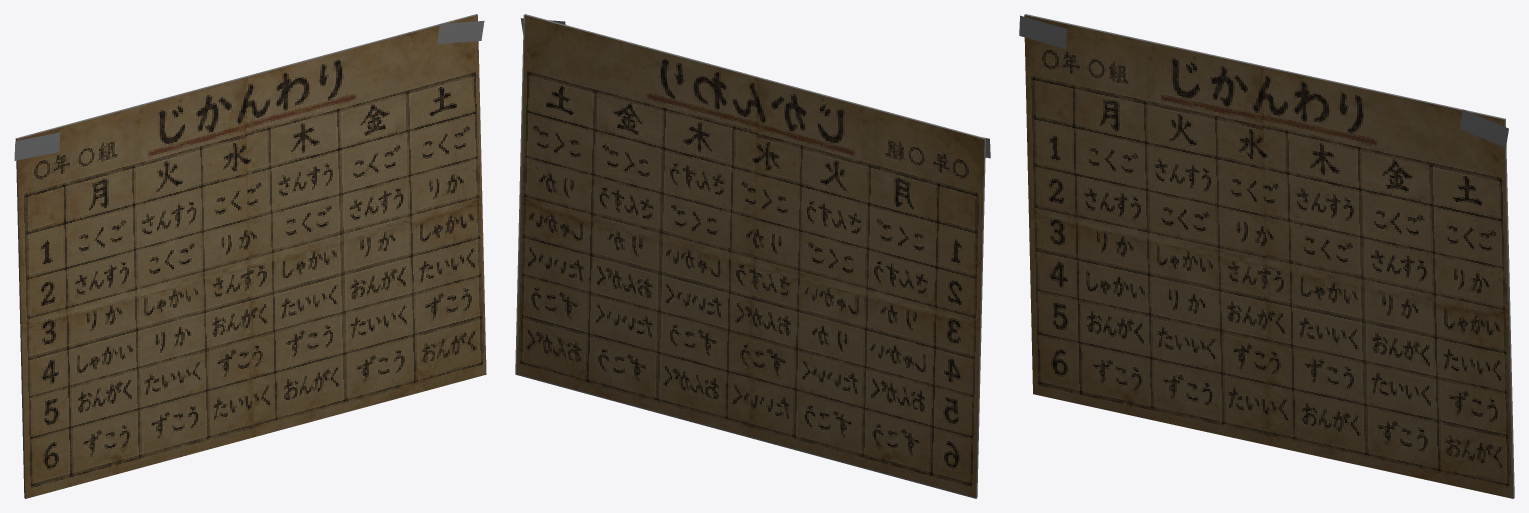
File: prop_poster-jikanwari-5.glb
The picture shows the model from 3 angles, left to right: view 1: azimuth 30°, elevation 25°; view 2: azimuth 150°, elevation 25°; view 3: azimuth 330°, elevation 25°; orthographic projection. The views are drawn at different scales.
Visible parts, largest first — view 1: prop_poster-jikanwari-5; view 2: prop_poster-jikanwari-5; view 3: prop_poster-jikanwari-5.
Boxes of the visible parts, bbox=[...] form: prop_poster-jikanwari-5: bbox=[14, 14, 486, 498]; prop_poster-jikanwari-5: bbox=[515, 14, 990, 498]; prop_poster-jikanwari-5: bbox=[1019, 14, 1514, 498].
Size of the model in its own units: 0.6305 by 0.4773 by 0.0055.
Materials: 2 (2 with a texture image).
